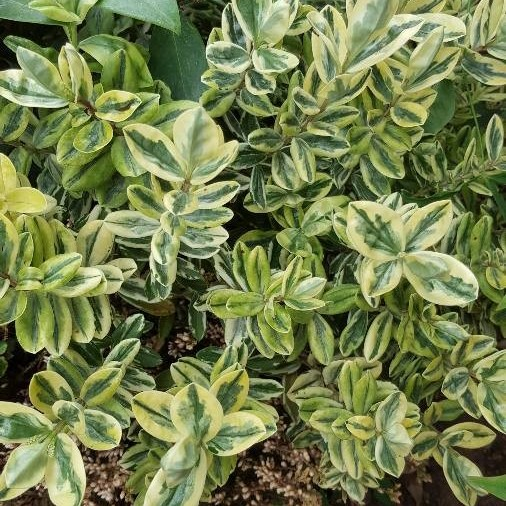obstacle: (41, 50, 479, 470)
